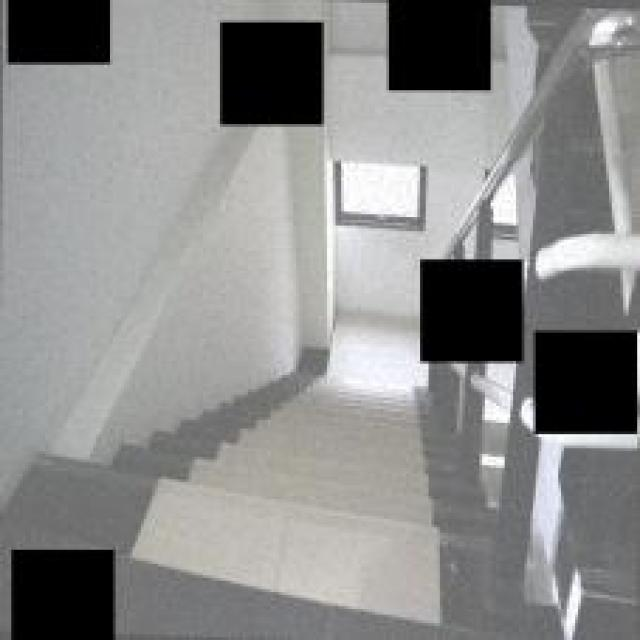downstair: (240, 398, 437, 628)
